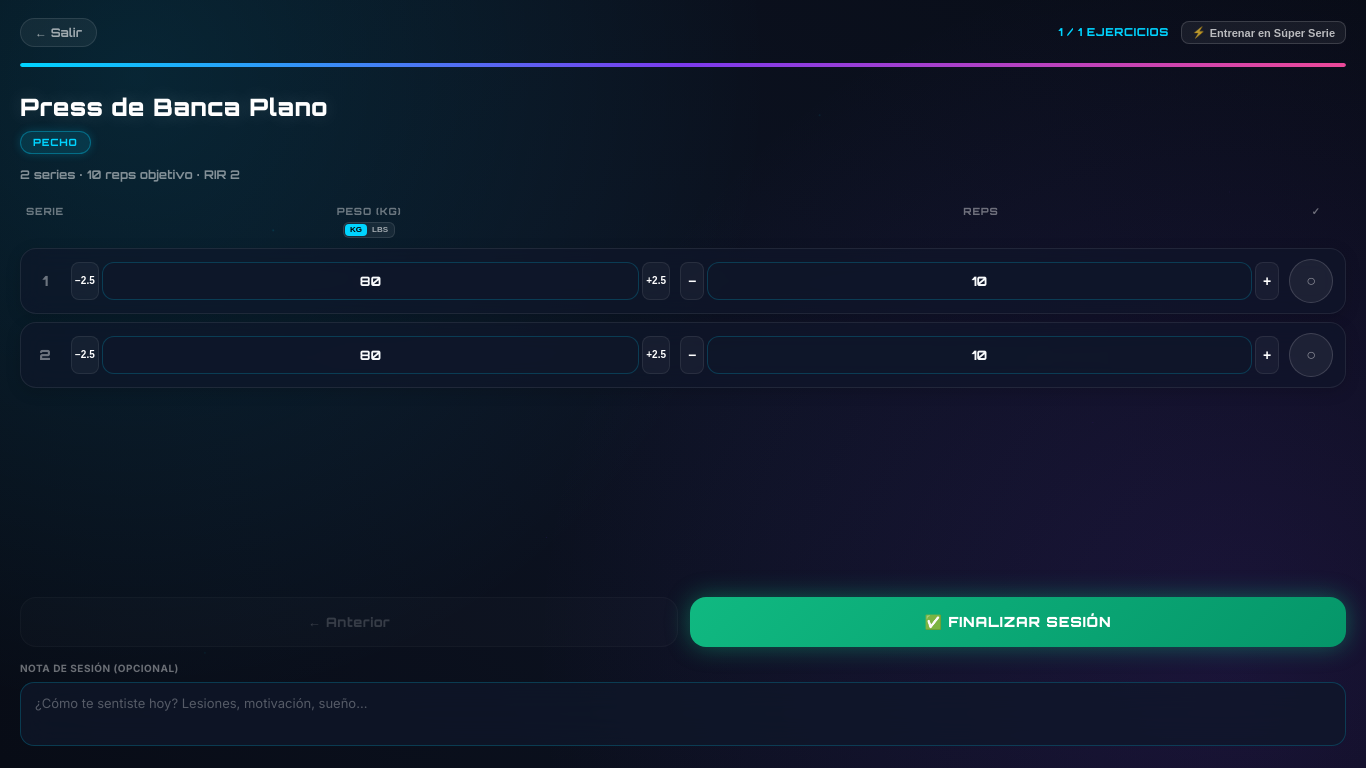
Test case: ActiveSession - Weight Stepper & KG/LBS Capture Unit Tests › 3. Selector de Unidad [ KG | LBS ] y Prevalencia Canónica en Kilos › permite alternar entre KG y LBS y ajusta la etiqueta y los steppers a +/- 5 lbs
Expected: the button with aria-label "Seleccionar Kilos" is shown, [345,224,367,236]
Note: Cambiar a LBS
Step 1. Click the button with aria-label "Seleccionar Libras" → (380, 230), box [367,224,393,236]
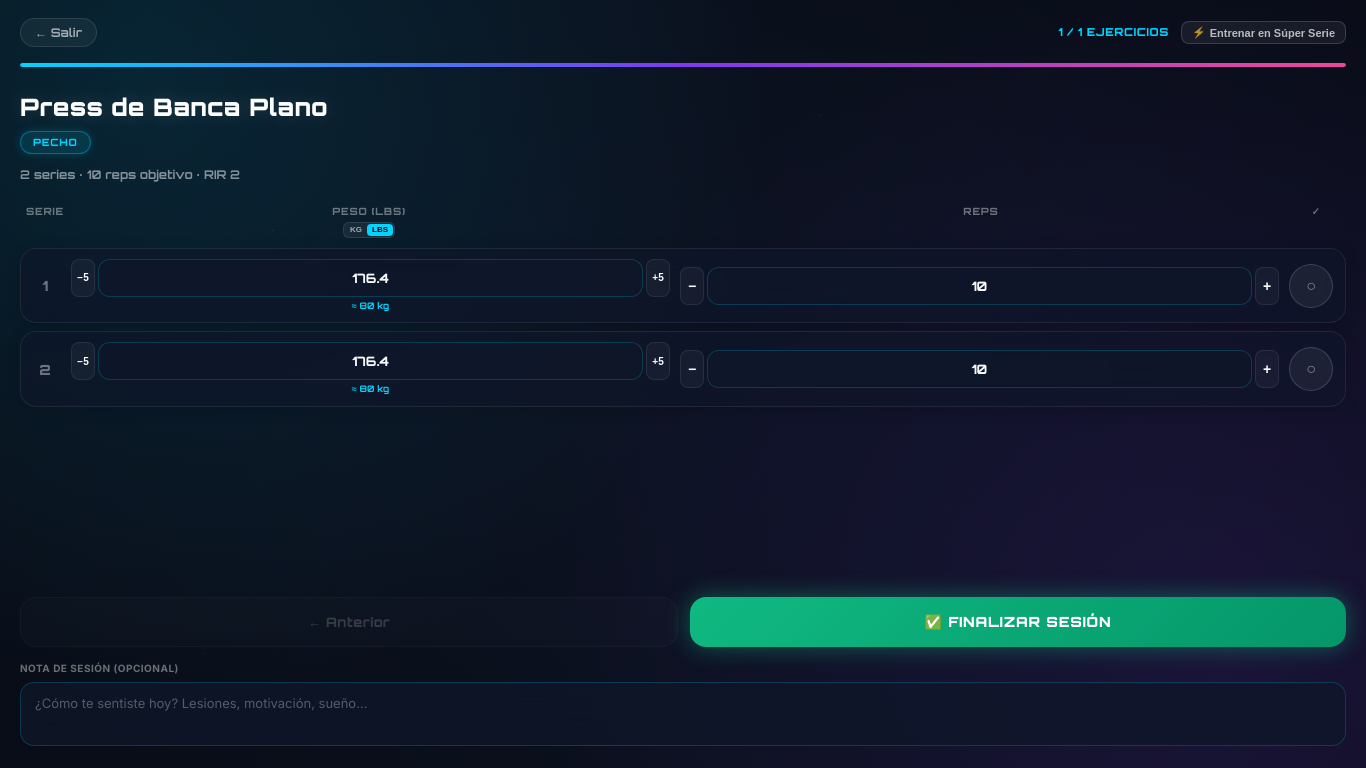
Now the button named "Reducir peso serie 1" reads "−5", box [71,259,95,297]
Now the button named "Aumentar peso serie 1" reads "+5", box [646,259,670,297]
